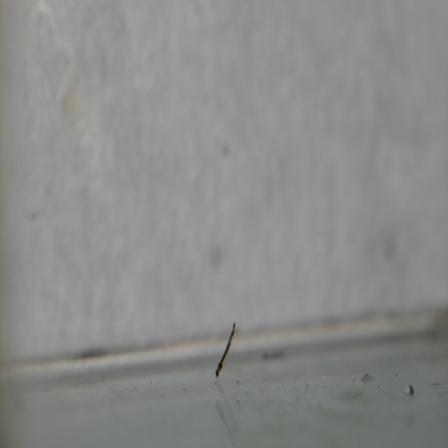Jentik-Nyamuk: (213, 319, 240, 380)
